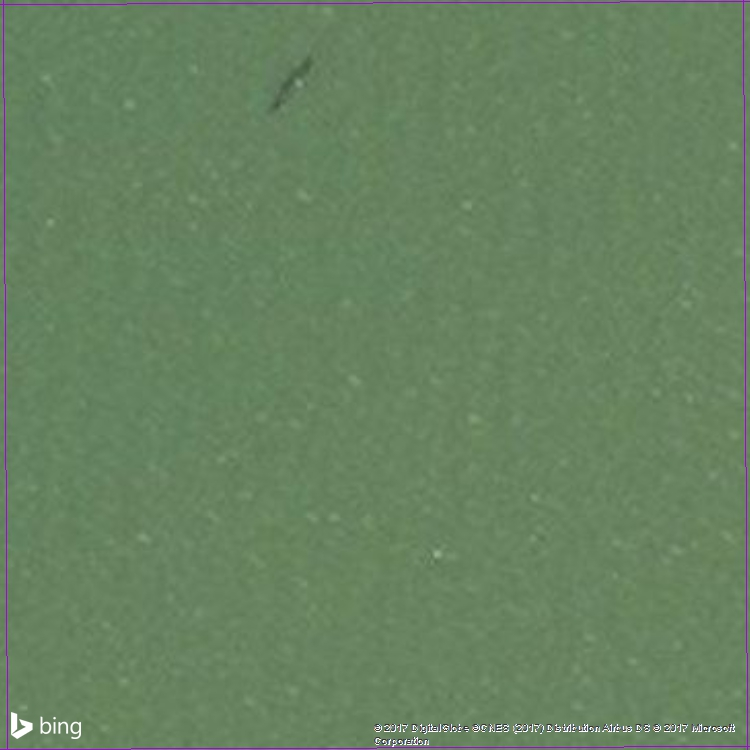boat: (261, 50, 323, 117)
